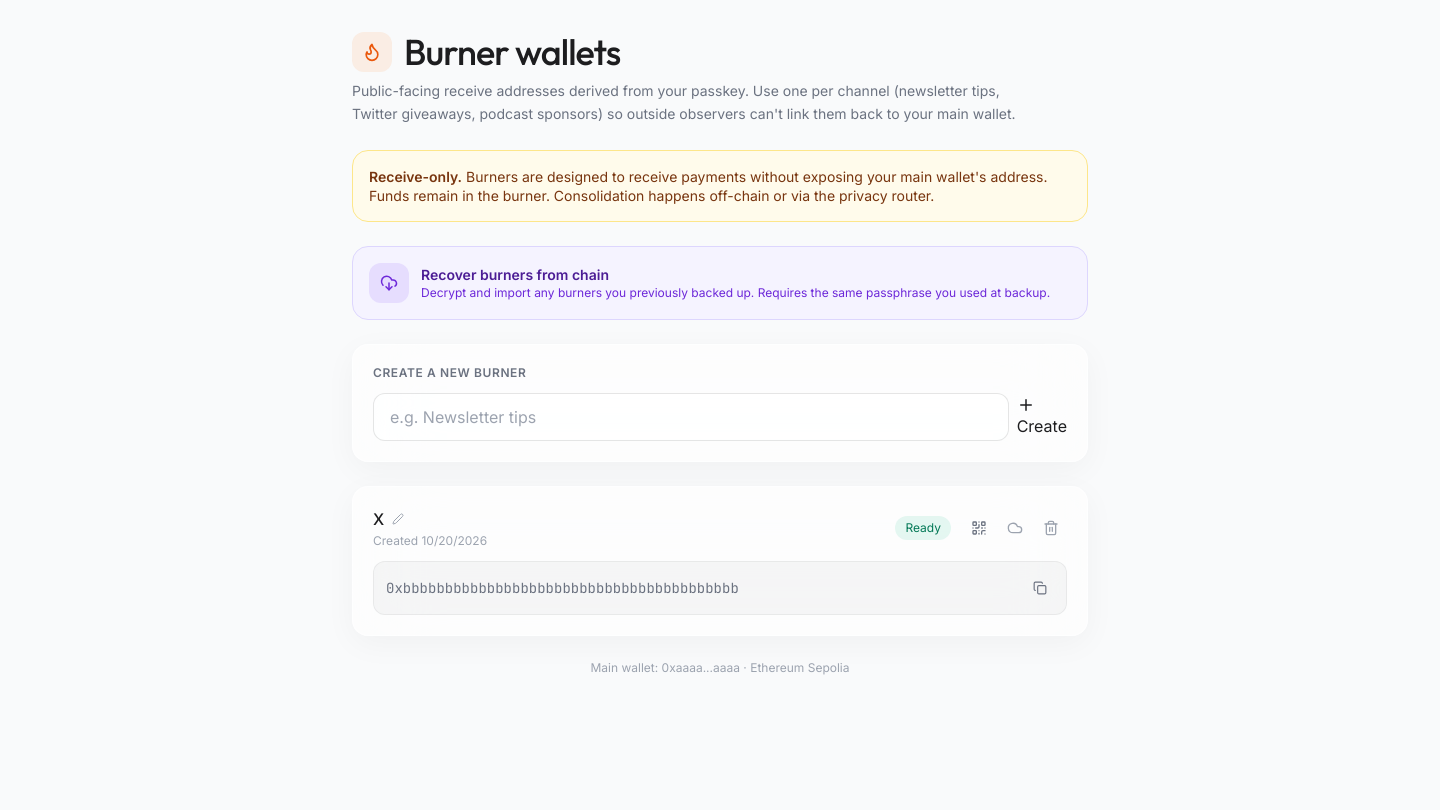
Burners — backup modal (§15.x) › Cancel button closes modal without invoking encryption
The image size is (1440, 810).
Click the button with test id "burner-backup-b1" at (1015, 528), box [999,512,1031,544]
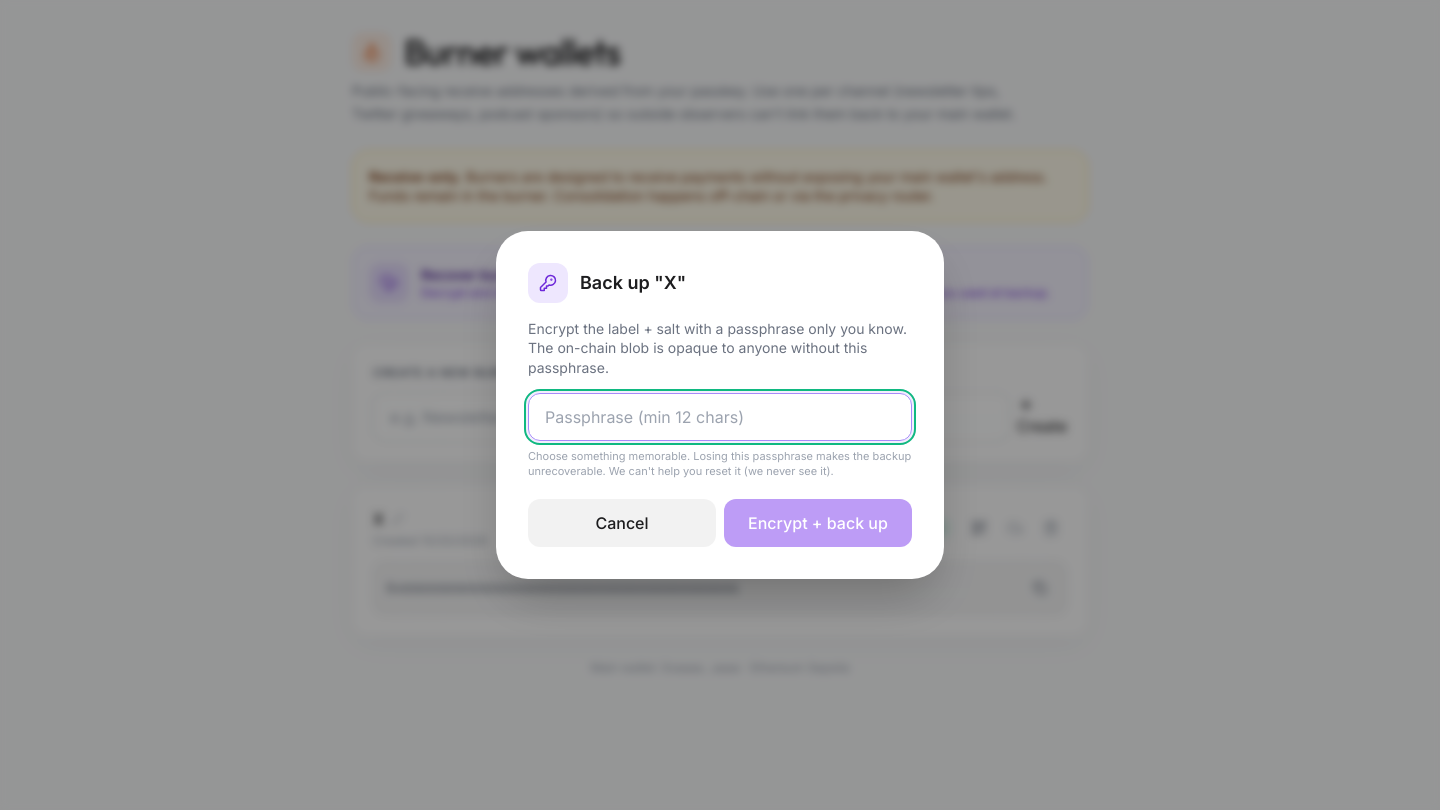
Click the button "Cancel" at (622, 523), box [528,499,716,547]
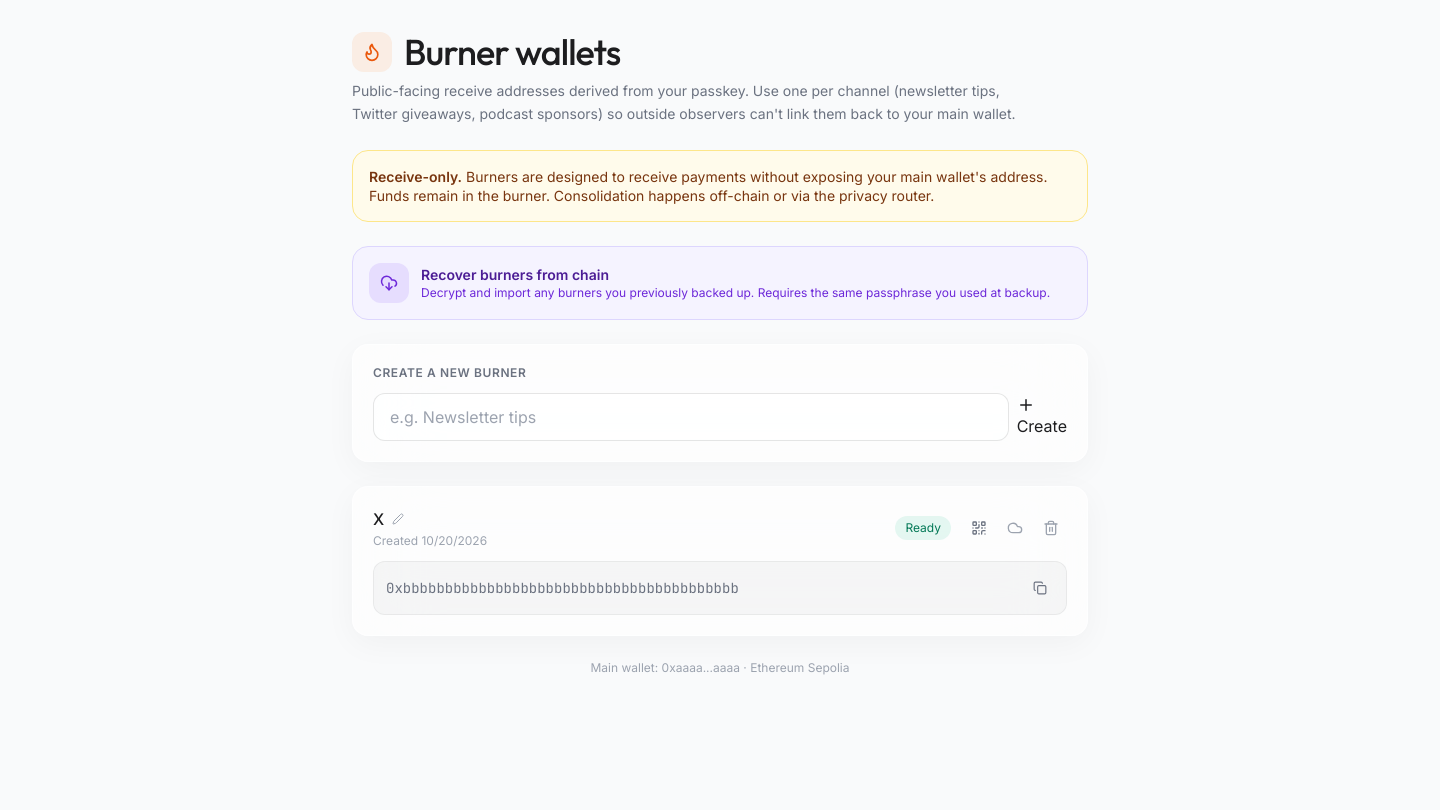
Now the text "opaque to anyone without this passphrase" is gone
